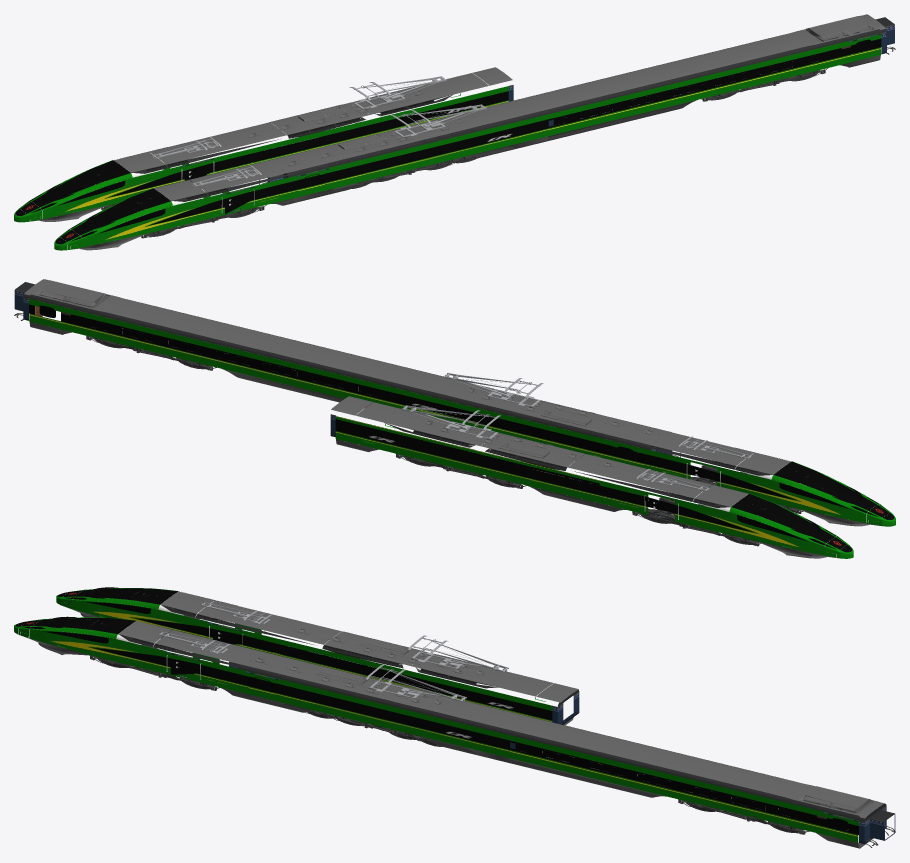
Rendered from CR400BF_LaJiTong_8car.glb.
The picture shows the model from 3 angles, top to bottom: view 1: azimuth 30°, elevation 25°; view 2: azimuth 150°, elevation 25°; view 3: azimuth 330°, elevation 25°; orthographic projection. The views are drawn at different scales.
Visible parts, largest first — view 1: k8xh-Editable_Poly-24482468-252, k8xh-Editable_Poly-24482468-252.001, k8xh-Editable_Poly-24482468-258.001, k8xh-Editable_Poly-24482468-258, k8xh-Editable_Poly-24482468-170, k8xh-Editable_Poly-24482468-171, k8xh-Editable_Poly-24482468-180, k8xh-Editable_Poly-24482468-178, k8xh-Editable_Poly-24482468-179, k8xh-Editable_Poly-24482468-257.001, k8xh-Editable_Poly-24482468-257, k8xh-Editable_Poly-24482468-254.001 (+10 smaller); view 2: k8xh-Editable_Poly-24482468-252.001, k8xh-Editable_Poly-24482468-171, k8xh-Editable_Poly-24482468-258.001, k8xh-Editable_Poly-24482468-258, k8xh-Editable_Poly-24482468-252, k8xh-Editable_Poly-24482468-170, k8xh-Editable_Poly-24482468-180, k8xh-Editable_Poly-24482468-178, k8xh-Editable_Poly-24482468-257.001, k8xh-Editable_Poly-24482468-254.001, k8xh-Editable_Poly-24482468-020, k8xh-Editable_Poly-24482468-019 (+11 smaller); view 3: k8xh-Editable_Poly-24482468-252, k8xh-Editable_Poly-24482468-252.001, k8xh-Editable_Poly-24482468-258.001, k8xh-Editable_Poly-24482468-258, k8xh-Editable_Poly-24482468-170, k8xh-Editable_Poly-24482468-171, k8xh-Editable_Poly-24482468-180, k8xh-Editable_Poly-24482468-178, k8xh-Editable_Poly-24482468-179, k8xh-Editable_Poly-24482468-257.001, k8xh-Editable_Poly-24482468-257, k8xh-Editable_Poly-24482468-254.001 (+9 smaller).
Part boxes in pixels (x1,y1,x2,y2): k8xh-Editable_Poly-24482468-252: [54, 119, 548, 250]; k8xh-Editable_Poly-24482468-252.001: [14, 91, 508, 222]; k8xh-Editable_Poly-24482468-258.001: [114, 67, 512, 173]; k8xh-Editable_Poly-24482468-258: [154, 95, 552, 201]; k8xh-Editable_Poly-24482468-170: [313, 14, 885, 162]; k8xh-Editable_Poly-24482468-171: [297, 33, 881, 197]; k8xh-Editable_Poly-24482468-180: [269, 29, 886, 177]; k8xh-Editable_Poly-24482468-178: [548, 38, 881, 127]; k8xh-Editable_Poly-24482468-179: [293, 55, 880, 203]; k8xh-Editable_Poly-24482468-257.001: [256, 86, 508, 152]; k8xh-Editable_Poly-24482468-257: [296, 114, 548, 180]; k8xh-Editable_Poly-24482468-254.001: [120, 86, 453, 173]; k8xh-Editable_Poly-24482468-252.001: [335, 421, 853, 558]; k8xh-Editable_Poly-24482468-171: [29, 298, 644, 468]; k8xh-Editable_Poly-24482468-258.001: [331, 396, 748, 506]; k8xh-Editable_Poly-24482468-258: [373, 364, 790, 474]; k8xh-Editable_Poly-24482468-252: [377, 391, 895, 526]; k8xh-Editable_Poly-24482468-170: [24, 279, 626, 434]; k8xh-Editable_Poly-24482468-180: [23, 294, 671, 449]; k8xh-Editable_Poly-24482468-178: [29, 304, 644, 463]; k8xh-Editable_Poly-24482468-257.001: [335, 416, 599, 485]; k8xh-Editable_Poly-24482468-254.001: [384, 417, 739, 507]; k8xh-Editable_Poly-24482468-020: [91, 321, 377, 395]; k8xh-Editable_Poly-24482468-019: [90, 320, 578, 445]; k8xh-Editable_Poly-24482468-252: [14, 617, 509, 757]; k8xh-Editable_Poly-24482468-252.001: [56, 588, 552, 721]; k8xh-Editable_Poly-24482468-258.001: [161, 591, 578, 702]; k8xh-Editable_Poly-24482468-258: [118, 621, 536, 731]; k8xh-Editable_Poly-24482468-170: [282, 661, 884, 818]; k8xh-Editable_Poly-24482468-171: [246, 673, 858, 842]; k8xh-Editable_Poly-24482468-180: [237, 651, 864, 821]; k8xh-Editable_Poly-24482468-178: [510, 740, 858, 834]; k8xh-Editable_Poly-24482468-179: [243, 693, 873, 848]; k8xh-Editable_Poly-24482468-257.001: [288, 641, 552, 710]; k8xh-Editable_Poly-24482468-257: [246, 671, 509, 740]; k8xh-Editable_Poly-24482468-254.001: [161, 594, 497, 688].
Bounding box in the file's own units: 66.79 × 4.12 × 8.64.
20 materials, 6 textured.
